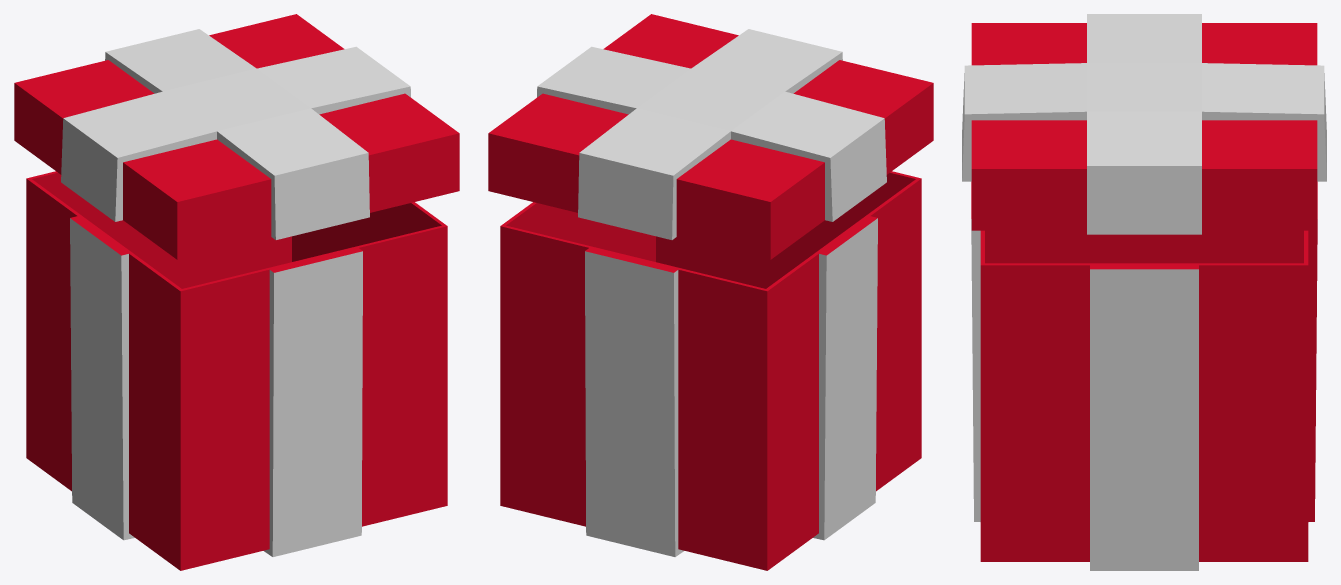
File: GIFT.fbx
The picture shows the model from 3 angles, left to right: view 1: azimuth 30°, elevation 25°; view 2: azimuth 150°, elevation 25°; view 3: azimuth 270°, elevation 25°; orthographic projection. The views are drawn at different scales.
Parts seen in each view (by area): view 1: Cube.001, Cube.002; view 2: Cube.001, Cube.002; view 3: Cube.001, Cube.002.
Boxes of the visible parts, x1,y1,x2,y2 form: Cube.001: (26,171,447,570); Cube.002: (14,14,459,259); Cube.001: (500,171,921,570); Cube.002: (488,14,933,259); Cube.001: (971,182,1317,570); Cube.002: (962,14,1326,234).
Bounding box in the file's own units: 223 × 279 × 223.
